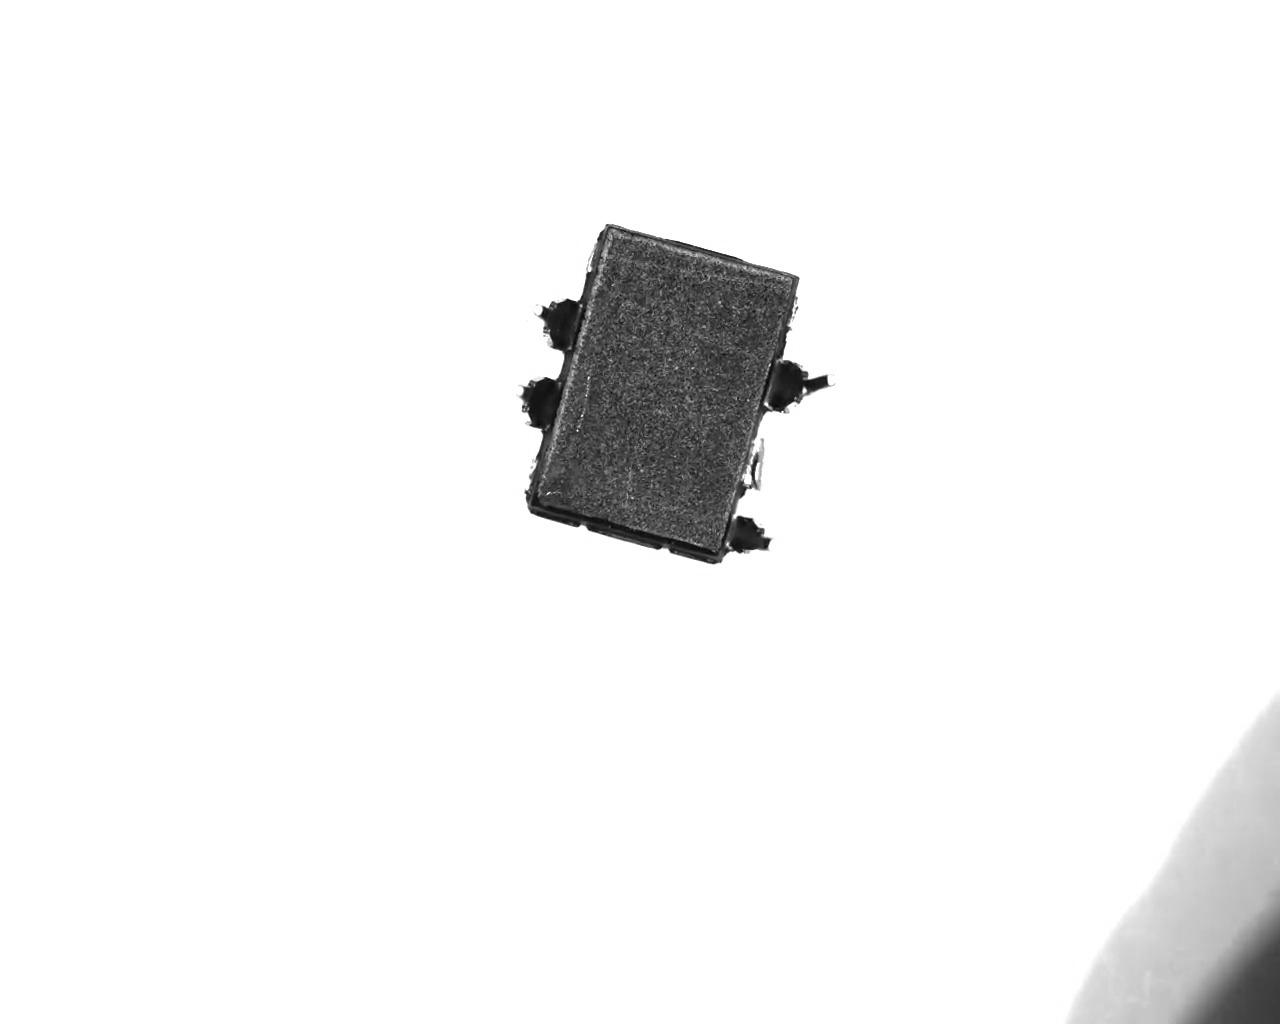brokenLeg: (765, 350, 839, 419), (522, 287, 583, 365), (511, 371, 567, 433), (723, 507, 777, 564)
missingLeg: (738, 432, 767, 495), (519, 439, 553, 493), (581, 227, 613, 281), (781, 281, 805, 335)
